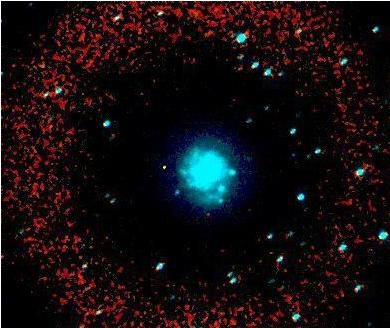star: (150, 152, 180, 182)
